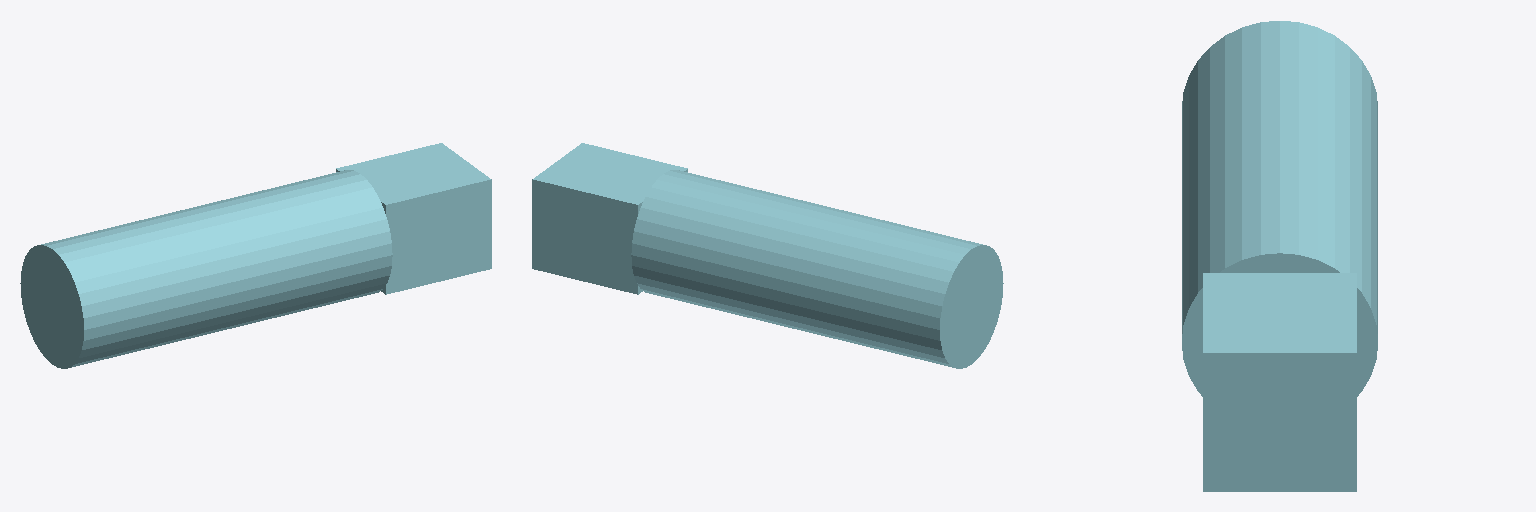
The robot description file, URDF, robot "cylinder_brush_v9006":
<?xml version="1.0"?>
<robot name="cylinder_brush_v9006">

  <link name="cylinder_brush_v9006">
    <!-- Handle -->
    <visual>
      <origin xyz="0 0 0" rpy="0 1.5707963267948966 0"/>
      <geometry>
        <cylinder length="0.1495431569990528" radius="0.026724903536852022"/>
      </geometry>
      <material name="material">
        <color rgba="0.639 0.847 0.882 1.0"/>
      </material>
    </visual>
    <collision>
      <origin xyz="0 0 0" rpy="0 1.5707963267948966 0"/>
      <geometry>
        <cylinder length="0.1495431569990528" radius="0.026724903536852022"/>
      </geometry>
    </collision>

    <!-- Head -->
    <visual>
      <origin xyz="0.10040719753652914 0 0" rpy="0 0 0"/>
      <geometry>
        <box size="0.051271238074005486 0.04191427549371455 0.04156402698434261"/>
      </geometry>
      <material name="material">
        <color rgba="0.639 0.847 0.882 1.0"/>
      </material>
    </visual>
    <collision>
      <origin xyz="0.10040719753652914 0 0" rpy="0 0 0"/>
      <geometry>
        <box size="0.051271238074005486 0.04191427549371455 0.04156402698434261"/>
      </geometry>
    </collision>

    <inertial>
      <density value="400.0"/>
    </inertial>
  </link>

</robot>

--- What the picture shows (computed from the rendered views, not written in the file) ---
Views: 3 orthographic renders of the robot side by side, from view 1: azimuth 30°, elevation 25°; view 2: azimuth 150°, elevation 25°; view 3: azimuth 270°, elevation 25°.
Model cylinder_brush_v9006 with 1 links and 0 joints (none), rooted at cylinder_brush_v9006, posed every joint at zero.
Visible links, largest first — view 1: cylinder_brush_v9006; view 2: cylinder_brush_v9006; view 3: cylinder_brush_v9006.
Boxes of the visible links, x1=… form: cylinder_brush_v9006: x1=20, y1=143, x2=491, y2=368; cylinder_brush_v9006: x1=532, y1=143, x2=1003, y2=368; cylinder_brush_v9006: x1=1182, y1=21, x2=1377, y2=491.
Size in the robot's own frame: 0.2008 by 0.0534 by 0.0534 metres.
Geometry: primitives only (box / cylinder / sphere), no mesh files.
